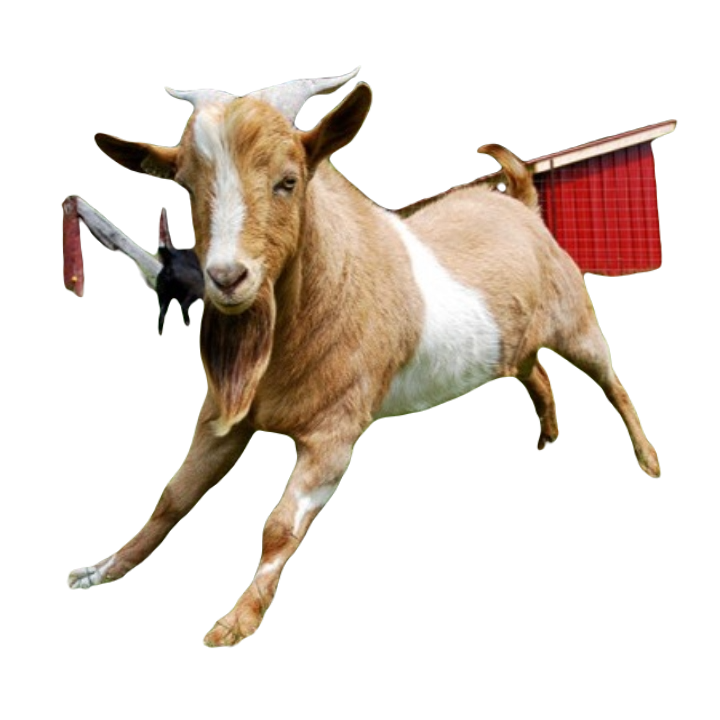Goat: (69, 67, 662, 647)
